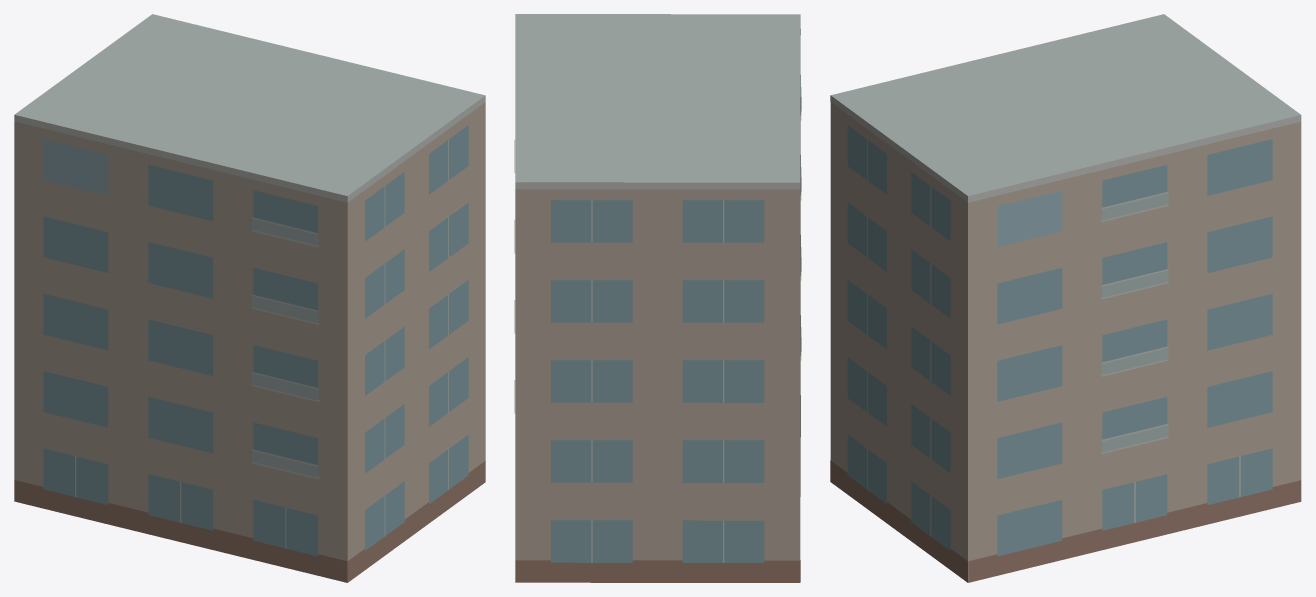
File: survey-upis-32915661.glb
3 renders of one model, left to right at view 1: azimuth 30°, elevation 25°; view 2: azimuth 150°, elevation 25°; view 3: azimuth 270°, elevation 25°, orthographic. The views are drawn at different scales.
Visible parts, largest first — view 1: survey-upis-32915661.tmp; view 2: survey-upis-32915661.tmp; view 3: survey-upis-32915661.tmp.
Part boxes in pixels (x1=…): survey-upis-32915661.tmp: x1=14, y1=14, x2=485, y2=582; survey-upis-32915661.tmp: x1=514, y1=14, x2=801, y2=582; survey-upis-32915661.tmp: x1=830, y1=14, x2=1301, y2=582.
Size of the model in its own units: 14.46 by 14.3 by 15.79.
